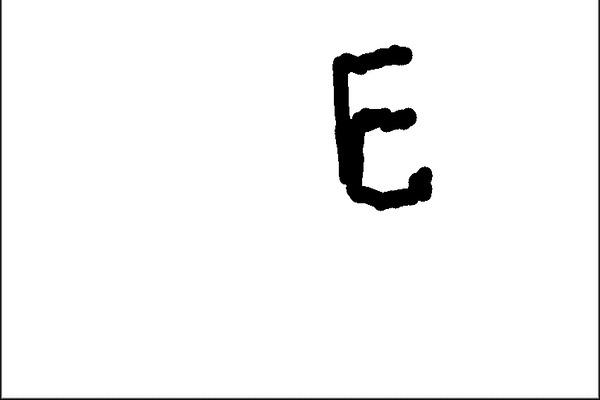E: (325, 40, 441, 215)
